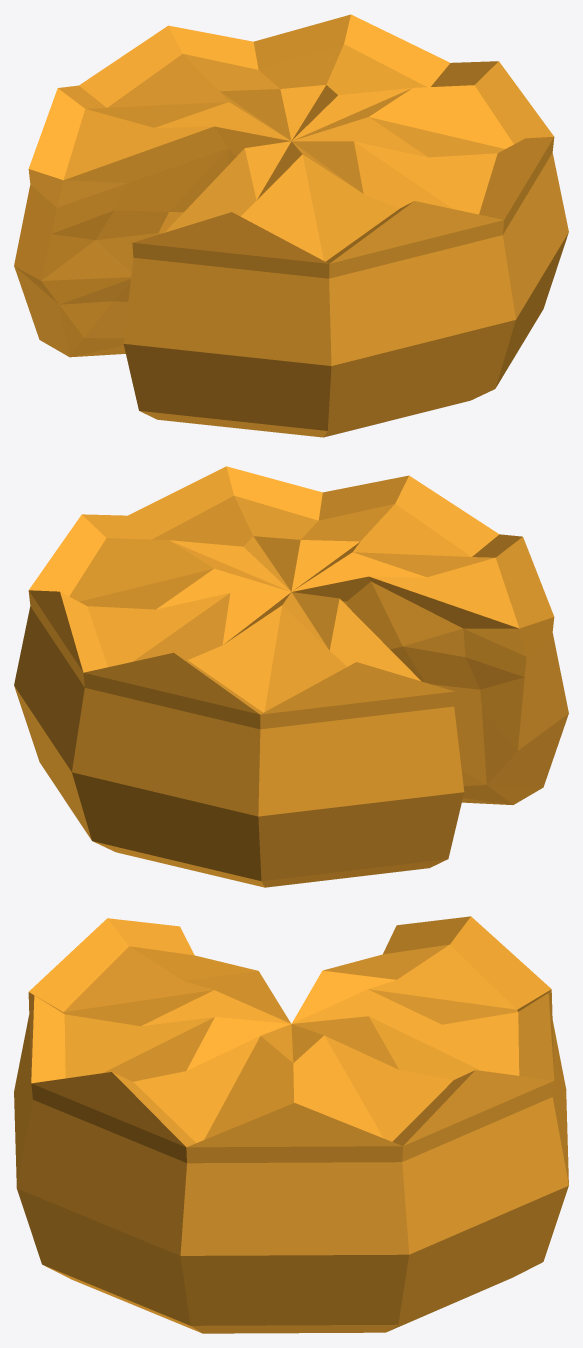
The model's file is SM_Pie_Meat_Cut.fbx.
3 views of the same model, one above another, from view 1: azimuth 30°, elevation 25°; view 2: azimuth 150°, elevation 25°; view 3: azimuth 270°, elevation 25° (orthographic). The views are drawn at different scales.
Parts seen in each view (by area): view 1: pie-meat-cut; view 2: pie-meat-cut; view 3: pie-meat-cut.
Part boxes in pixels (bbox=[...]): pie-meat-cut: bbox=[14, 14, 568, 437]; pie-meat-cut: bbox=[14, 466, 568, 887]; pie-meat-cut: bbox=[14, 916, 568, 1333].
Bounding box in the file's own units: 0.2623 × 0.1282 × 0.2623.
